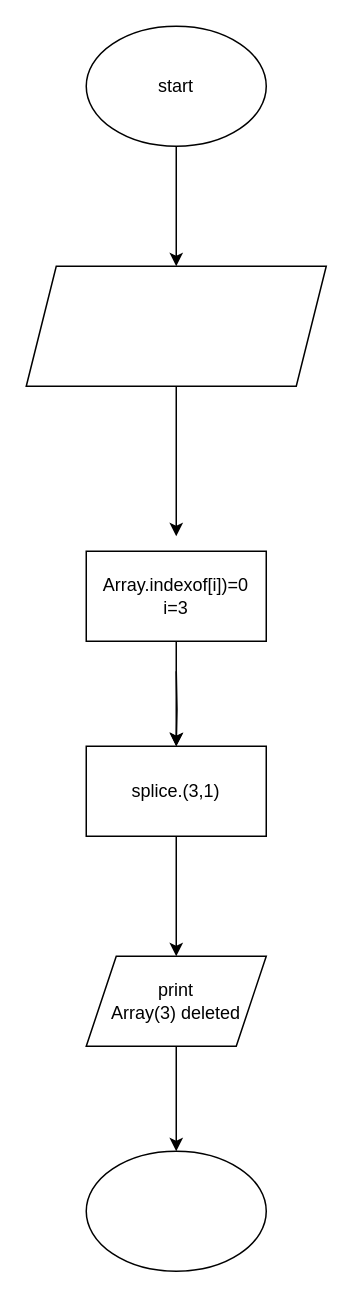
The diagram is 353 pixels wide and 1298 high, and some of its shapes have lost their labels. Each missing label, with the centre of its shape:
Array=[12,47,65,0,74,2,98] i=0: pixel 175 325
end: pixel 175 1210
